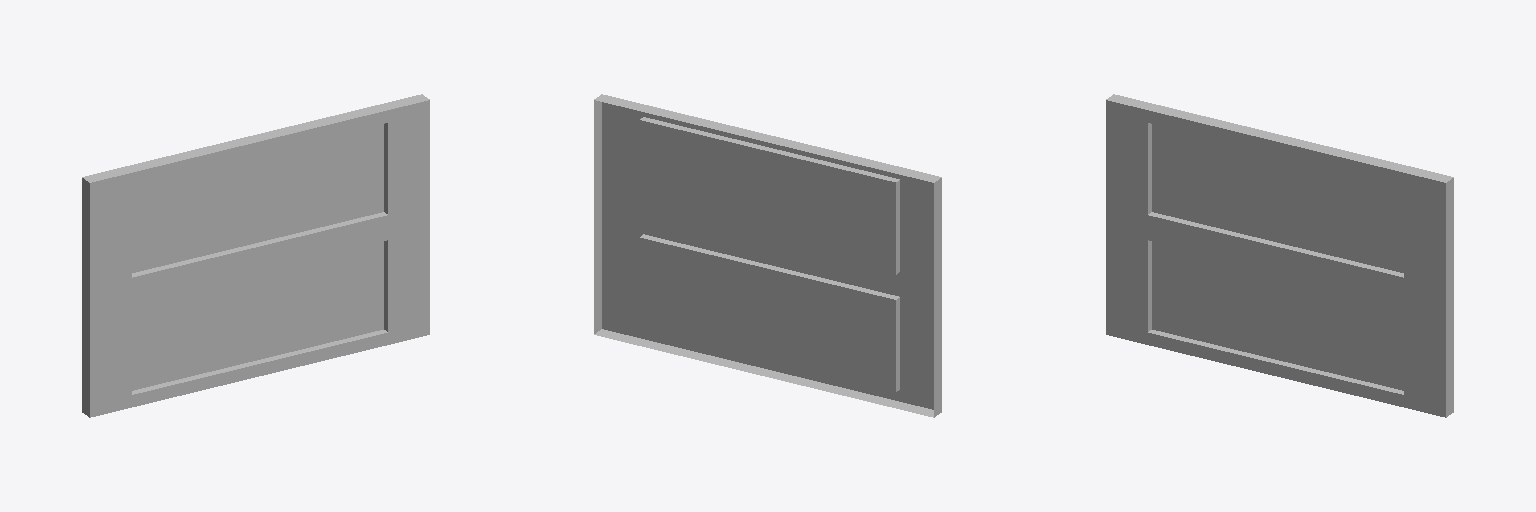
Rendered from table.obj.
3 renders of one model, left to right at view 1: azimuth 30°, elevation 25°; view 2: azimuth 150°, elevation 25°; view 3: azimuth 330°, elevation 25°, orthographic.
Visible parts, largest first — view 1: table.001; view 2: table.001; view 3: table.001.
Part boxes in pixels (x1,y1,x2,y2): table.001: (82, 94, 429, 417); table.001: (594, 94, 941, 417); table.001: (1106, 94, 1453, 417).
Size of the model in its own units: 9.28 by 6.12 by 0.3783.